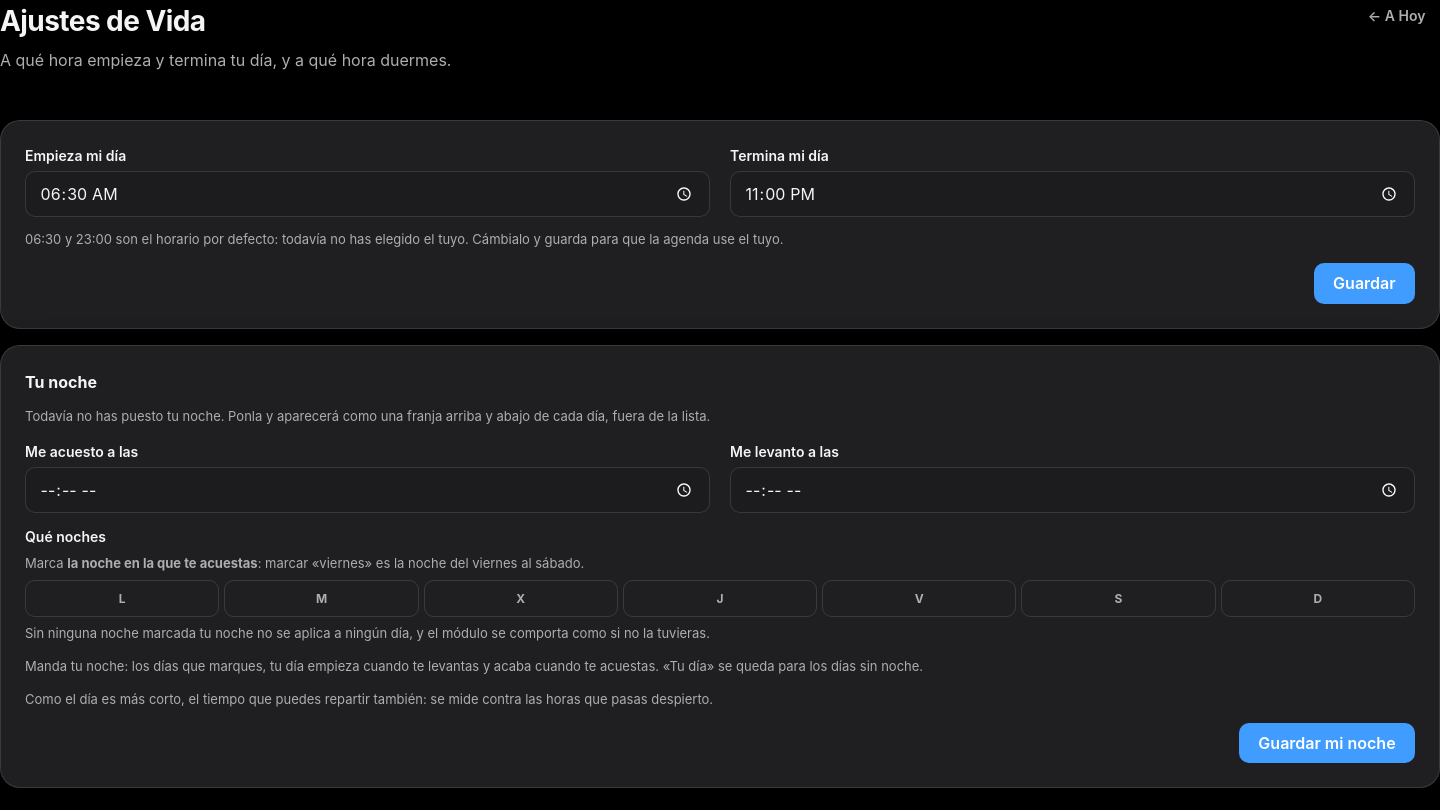
VidaAjustesPage › un fin que no es posterior al inicio no se guarda y se señala (criterio 10)
Replace the text in the time field labelled "Termina mi día" with "06:00": (1072, 194) [730,171,1415,217]
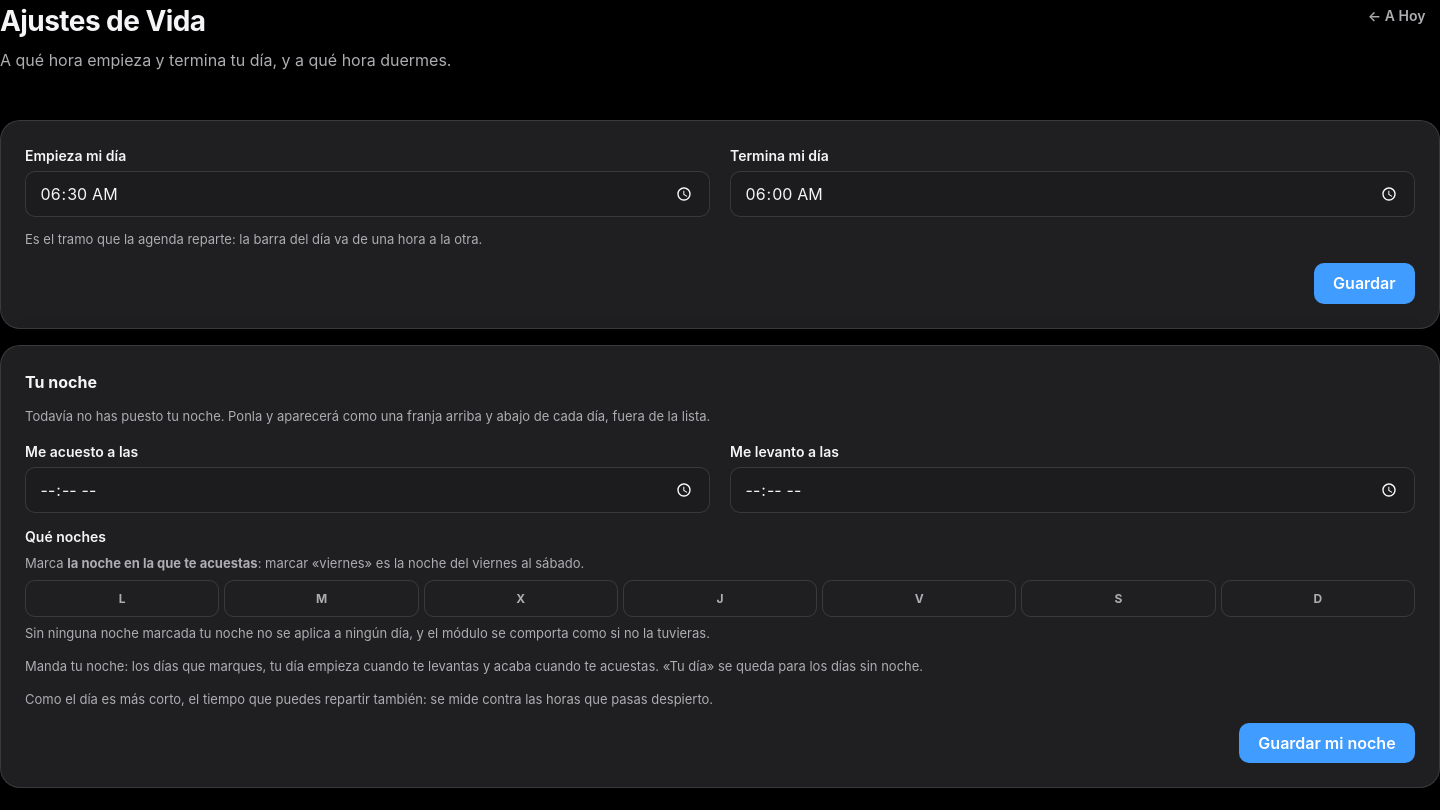
Click the button "Guardar": (1364, 284) [1314,264,1415,304]
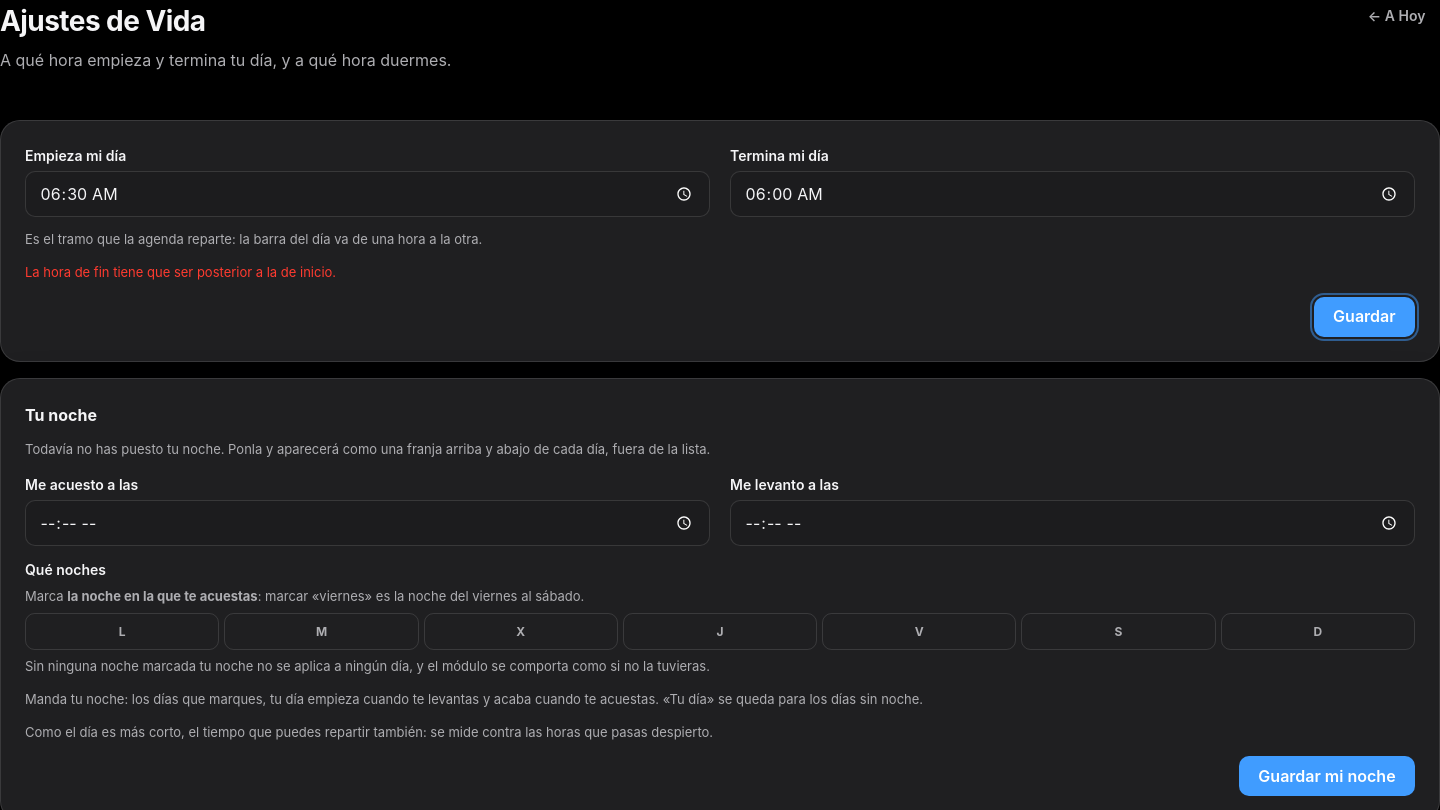
Now the message reads "La hora de fin tiene que ser posterior a la de inicio.", box [25,264,336,280]
